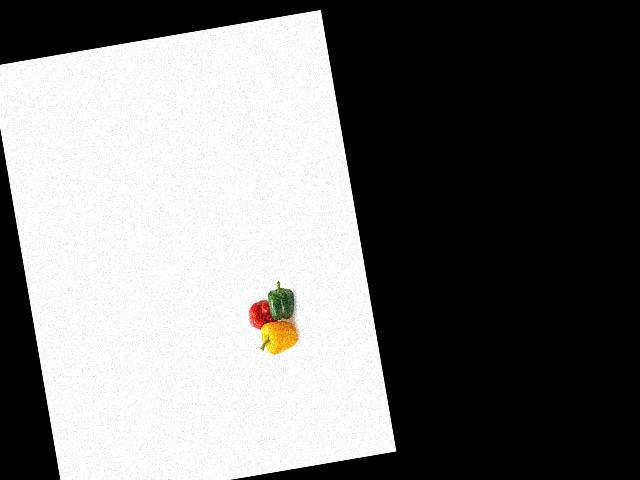bell_pepper: (262, 282, 298, 329)
